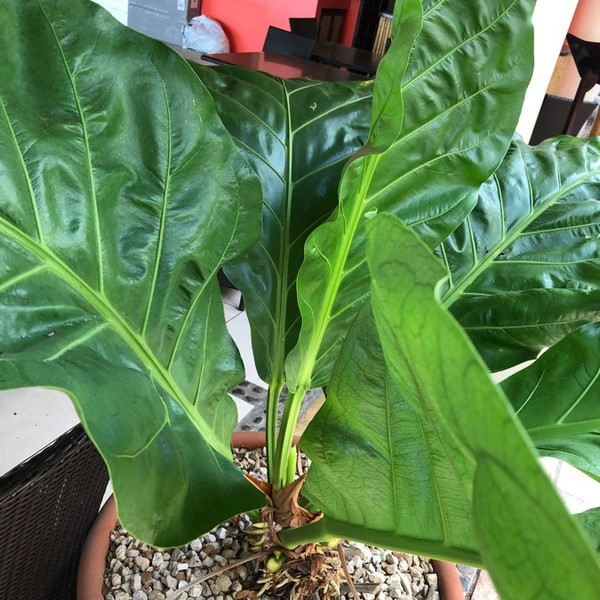obstacle: (37, 52, 557, 597)
